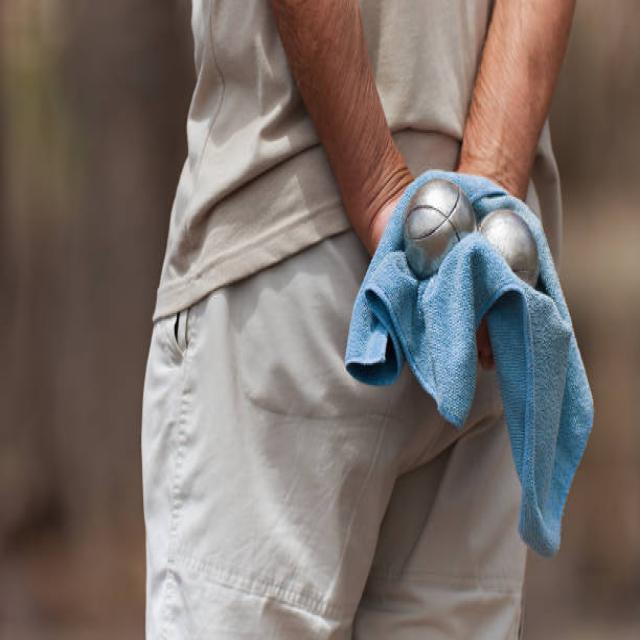petanque: (401, 176, 479, 286), (478, 201, 550, 299)
